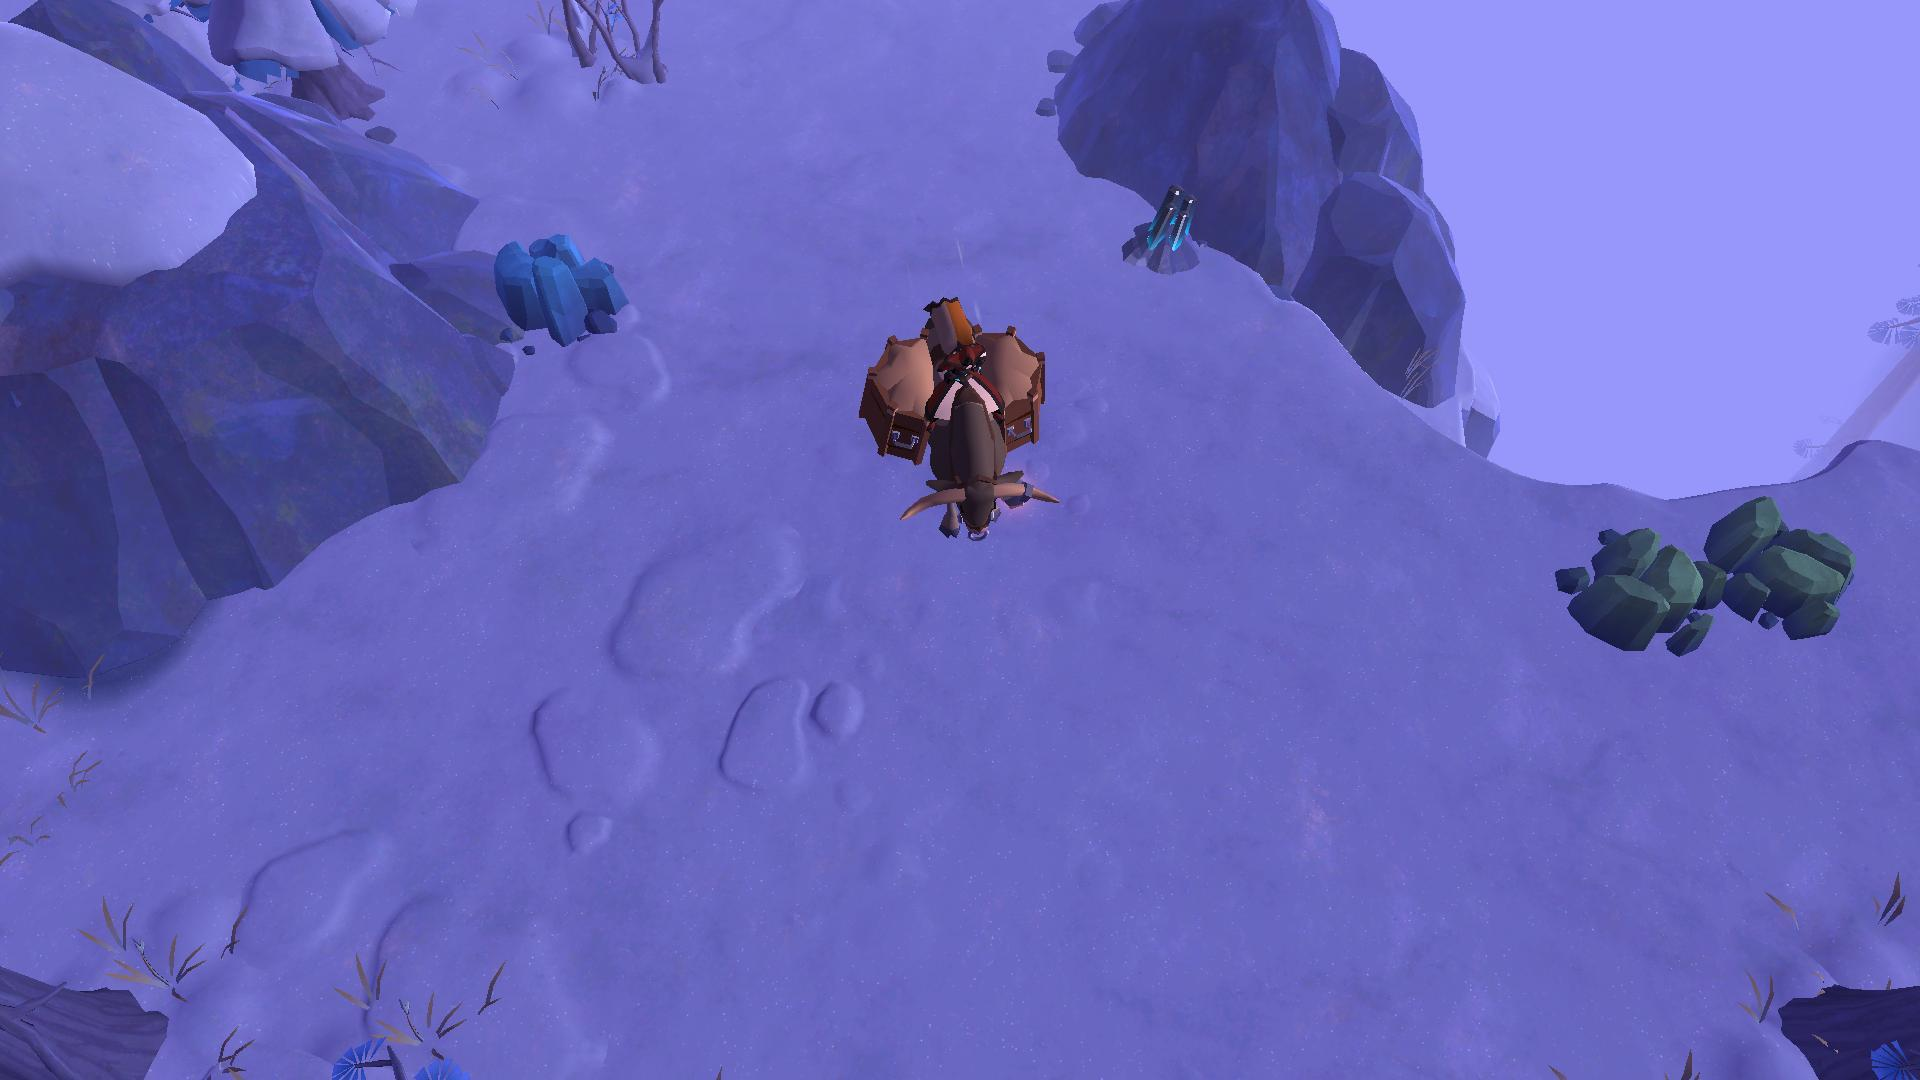ore_t4: (1135, 185, 1196, 255)
rock_t3: (1696, 495, 1866, 642), (1555, 520, 1714, 666)
rock_t4: (479, 229, 636, 348)
